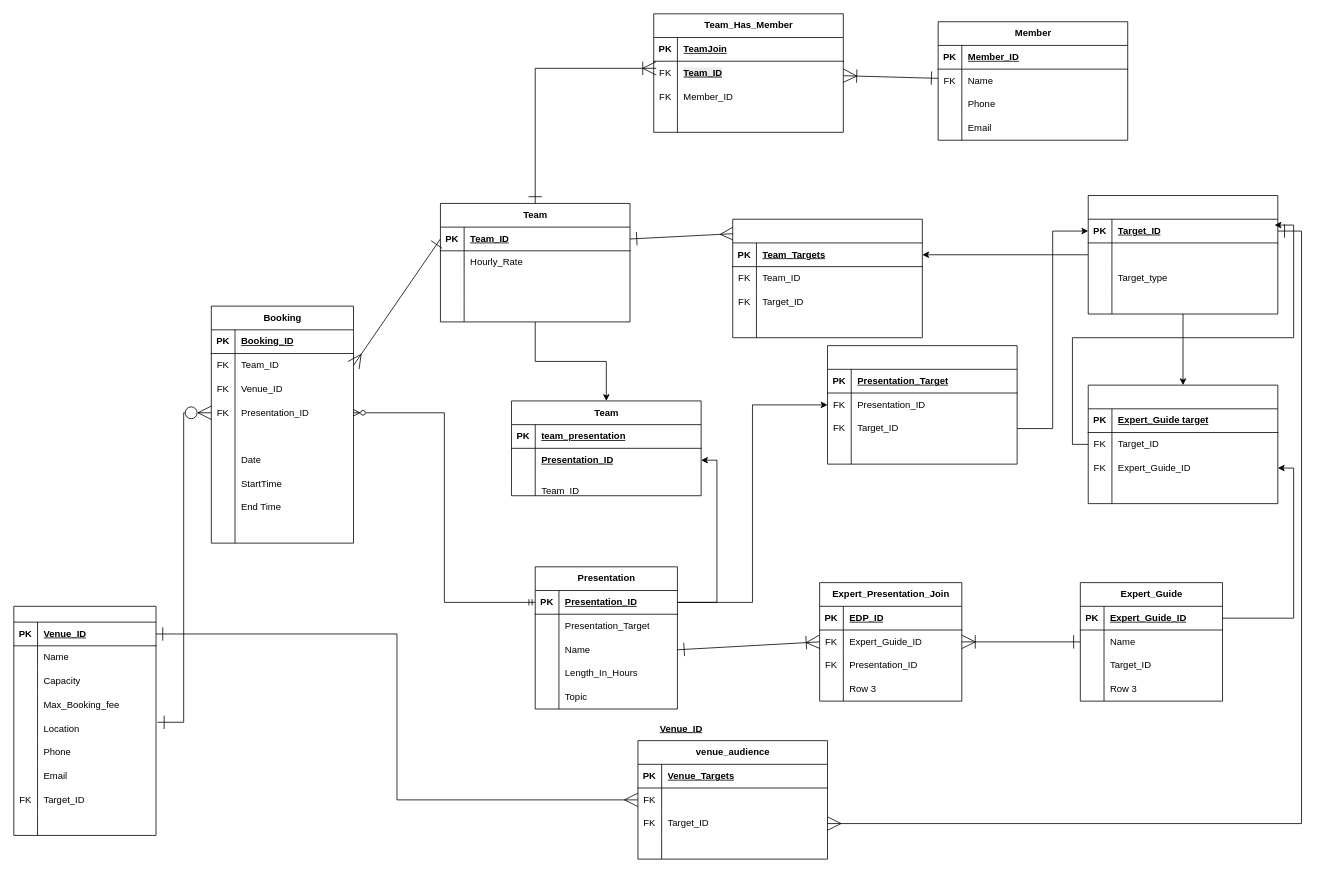
Image size: 1330x873. Some labels were removed from this diagram. The shapes that lost their labels are listed below. From the top down, each one's box as (x1, y1, x2, y2) in pixels, then its label:
(1087, 195, 1278, 314): Target_Audience
(732, 218, 922, 338): Team_Audiences
(827, 345, 1017, 464): Presentation_audience
(1087, 384, 1278, 504): Expert_Guide_Audience
